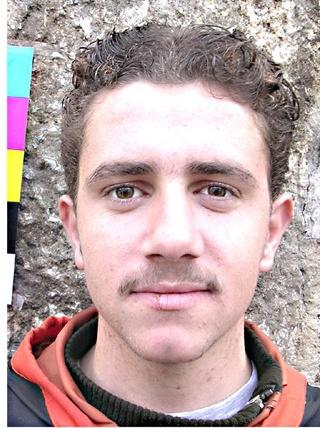No Mask: (54, 72, 303, 355)
